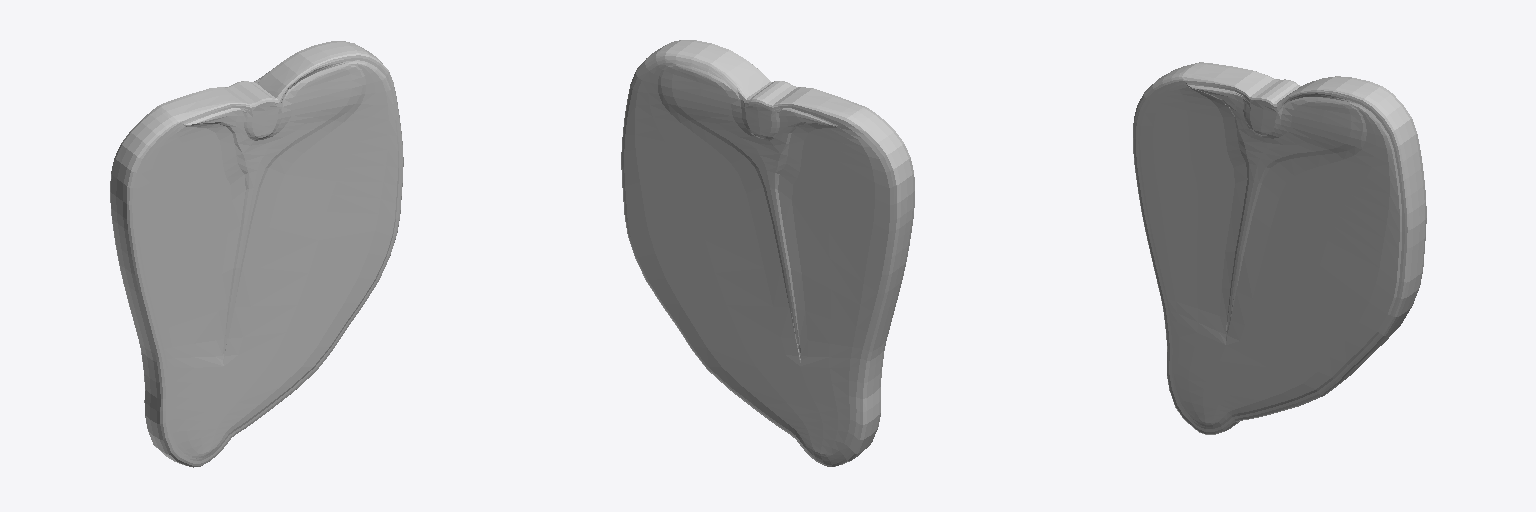
File: 10879_Cooked Steak (T-bone)_v1_L3.obj
The picture shows the model from 3 angles: view 1: azimuth 30°, elevation 25°; view 2: azimuth 150°, elevation 25°; view 3: azimuth 330°, elevation 25°; orthographic projection.
Visible parts, largest first — view 1: default; view 2: default; view 3: default.
Part boxes in pixels (x1,y1,x2,y2): default: (110,41,403,467); default: (621,40,914,466); default: (1133,62,1426,434).
Size of the model in its own units: 9.26 by 12.01 by 1.54.